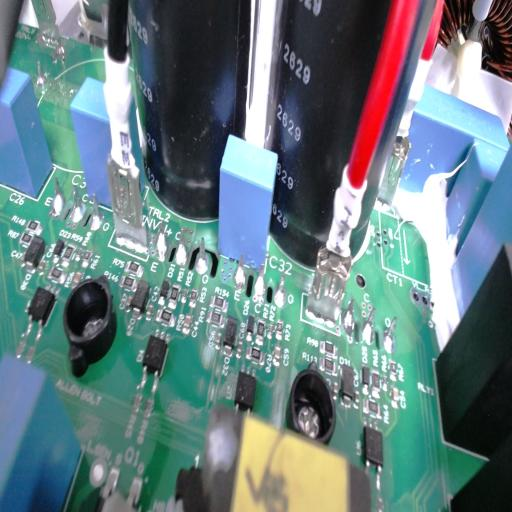pin_group: (148, 205, 218, 280), (44, 162, 109, 240), (232, 249, 294, 316), (340, 294, 400, 358)
solder_ball: (46, 172, 66, 212), (193, 238, 214, 275), (68, 182, 85, 223), (273, 268, 290, 309), (87, 193, 105, 231), (152, 216, 169, 256), (251, 262, 267, 303), (381, 316, 398, 354), (363, 307, 379, 345), (173, 229, 189, 265), (234, 252, 248, 290), (343, 298, 356, 338)
